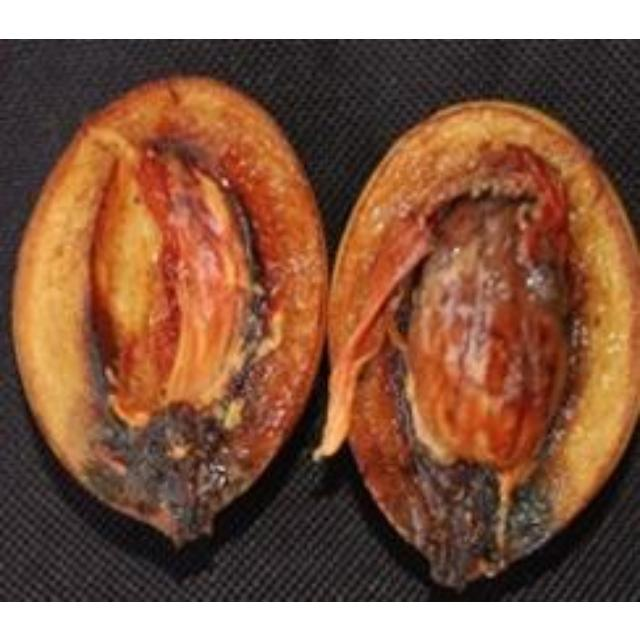damaged: (10, 72, 333, 563), (317, 101, 637, 594)
